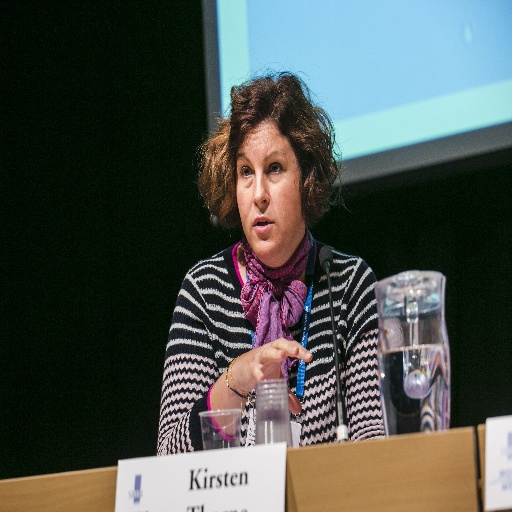hand: (240, 335, 314, 387)
